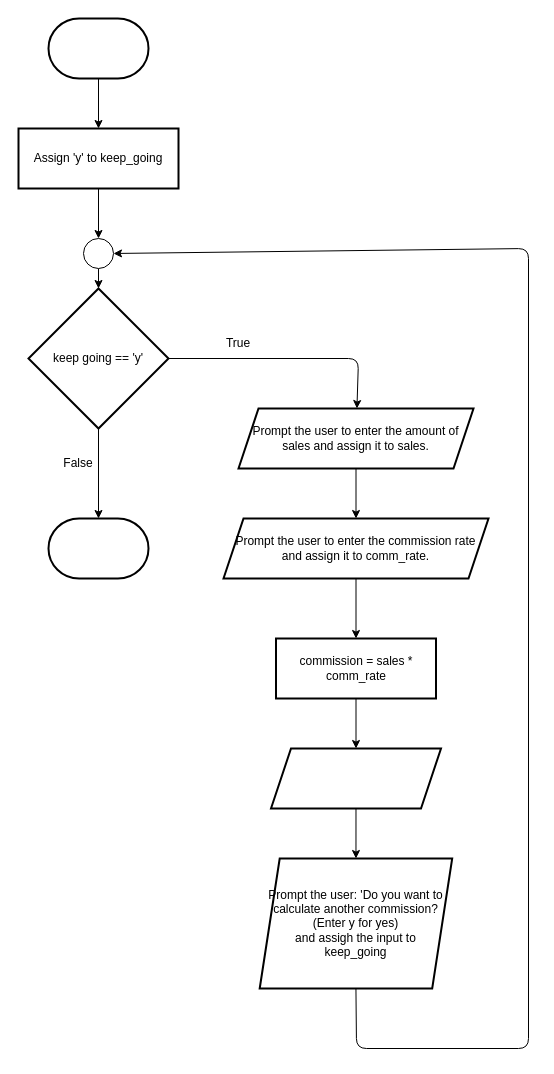
This 554x1074 diagram has some shape labels left out. Here are the shapes that lost their labels. From the top down, the centre of each, then its label:
point 98,48: Start
point 98,548: End
point 356,778: Display the commission
